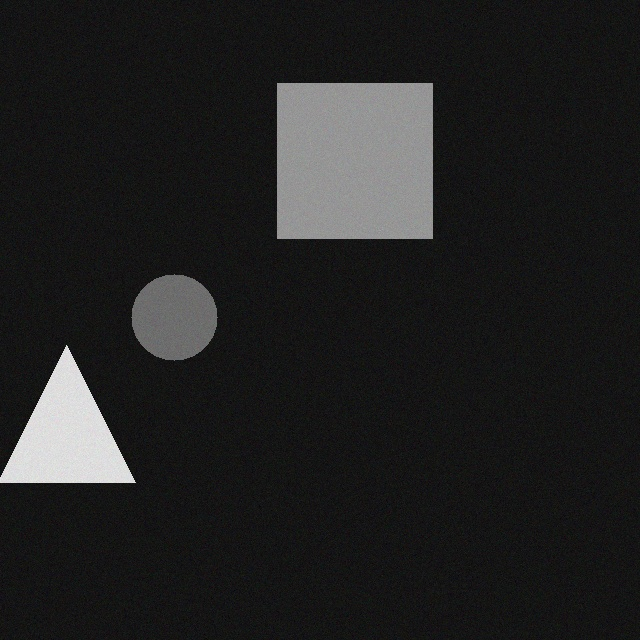circle: (137, 270, 223, 356)
square: (283, 79, 438, 234)
triangle: (4, 341, 141, 478)
